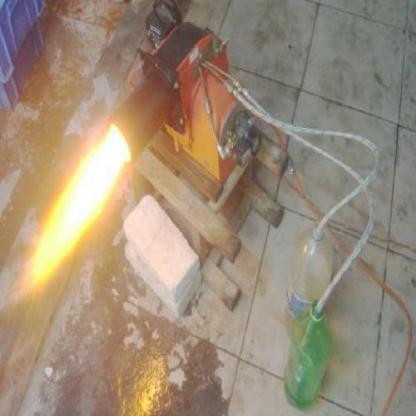fire: (18, 100, 132, 286)
